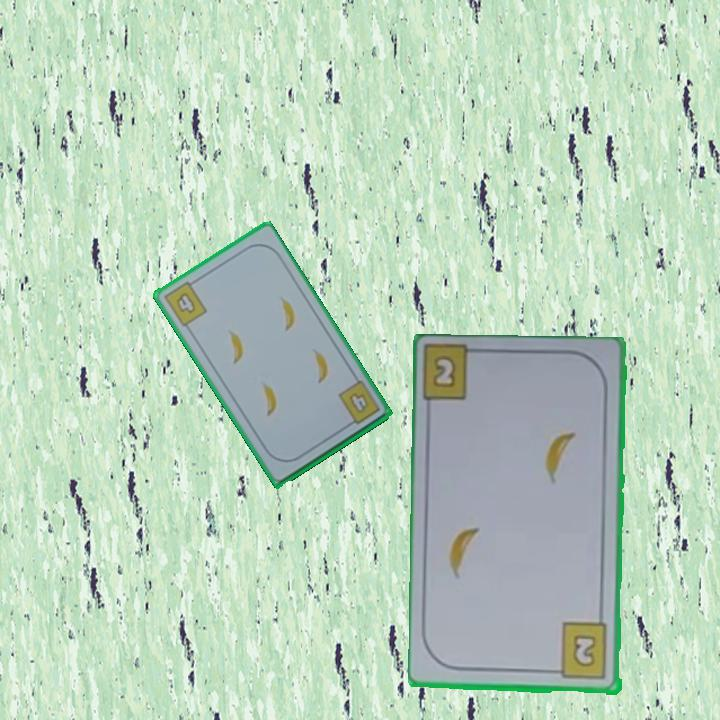2b: (548, 621, 611, 682), (430, 352, 459, 391)
4b: (160, 276, 210, 330), (334, 379, 383, 430)
